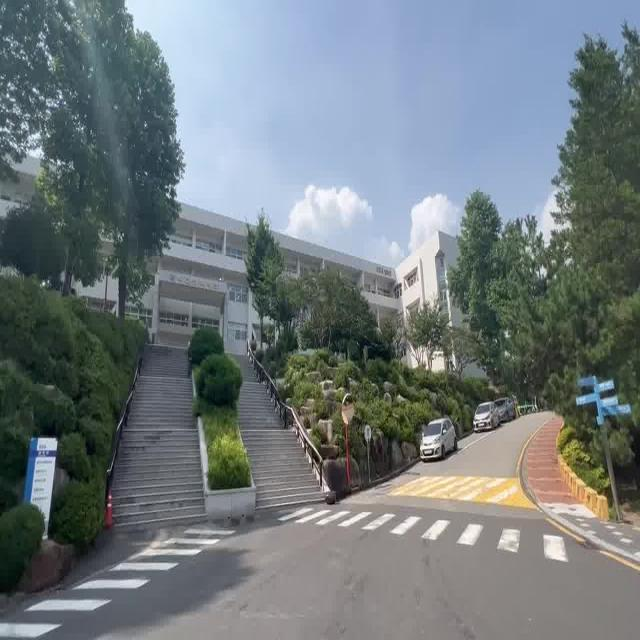building: (163, 202, 240, 330)
